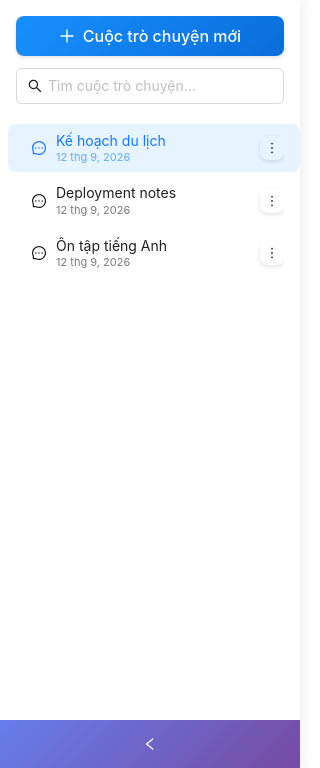
Test: Sidebar › search › filters by name
The image size is (320, 768).
Type "deployment" into the field.
click(151, 86); type("deployment")  # box x1=46 y1=73 x2=256 y2=99
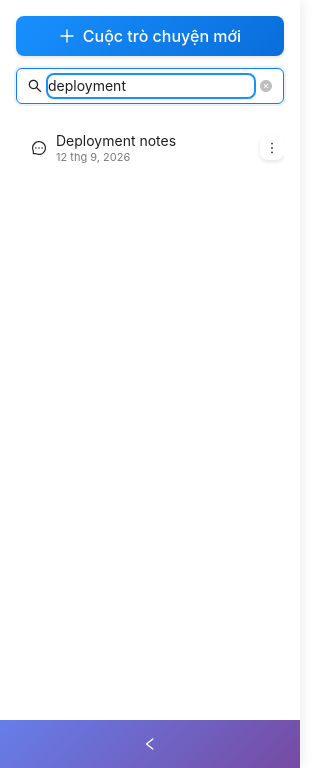
Expected: the text "Deployment notes" is shown, x1=56 y1=132 x2=176 y2=150
Result: the menu item "Kế hoạch du lịch" is gone
